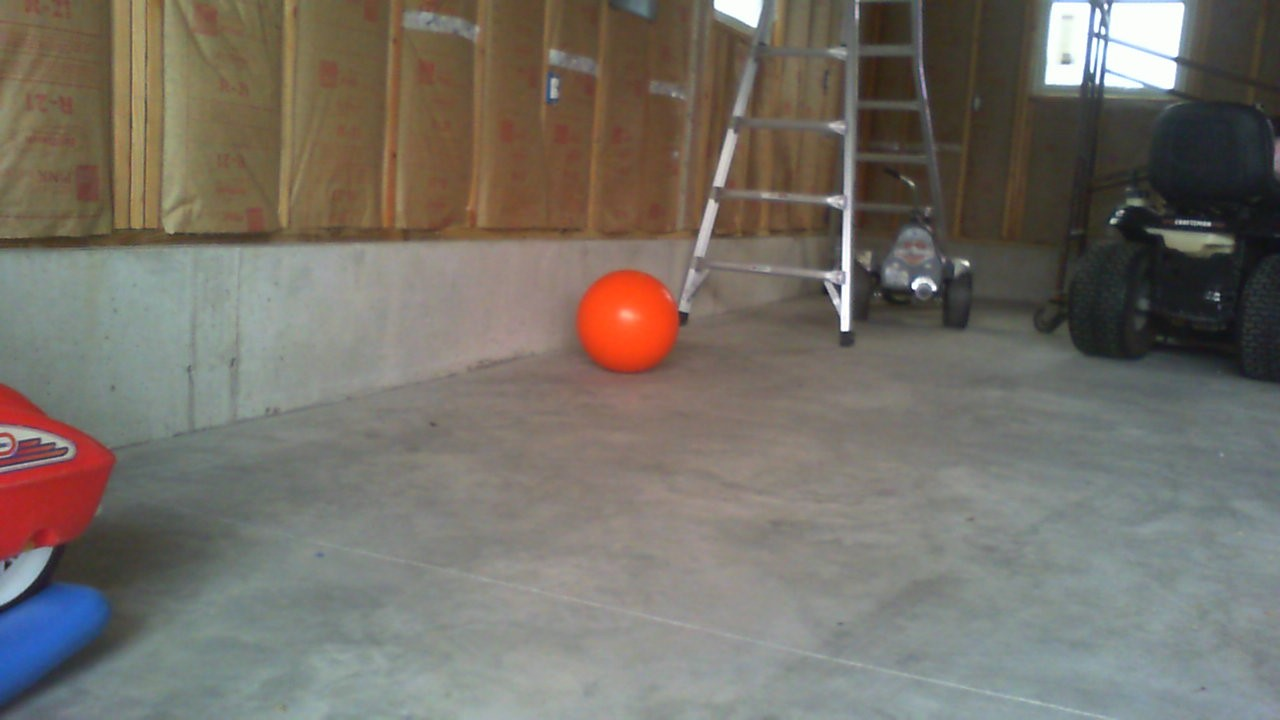Ball: (578, 268, 677, 371)
